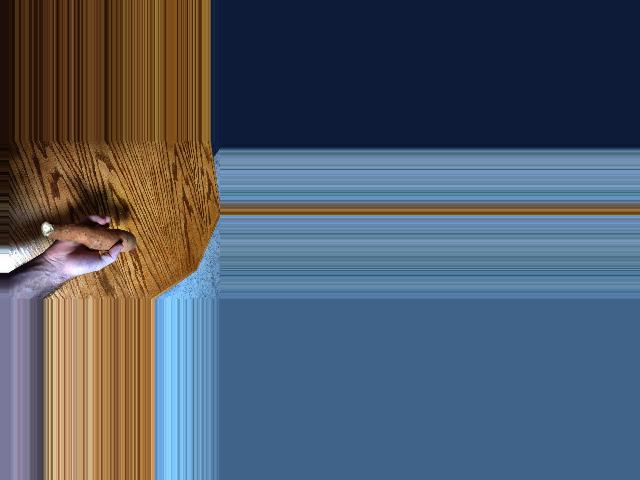sweet_potato: (43, 224, 134, 252)
